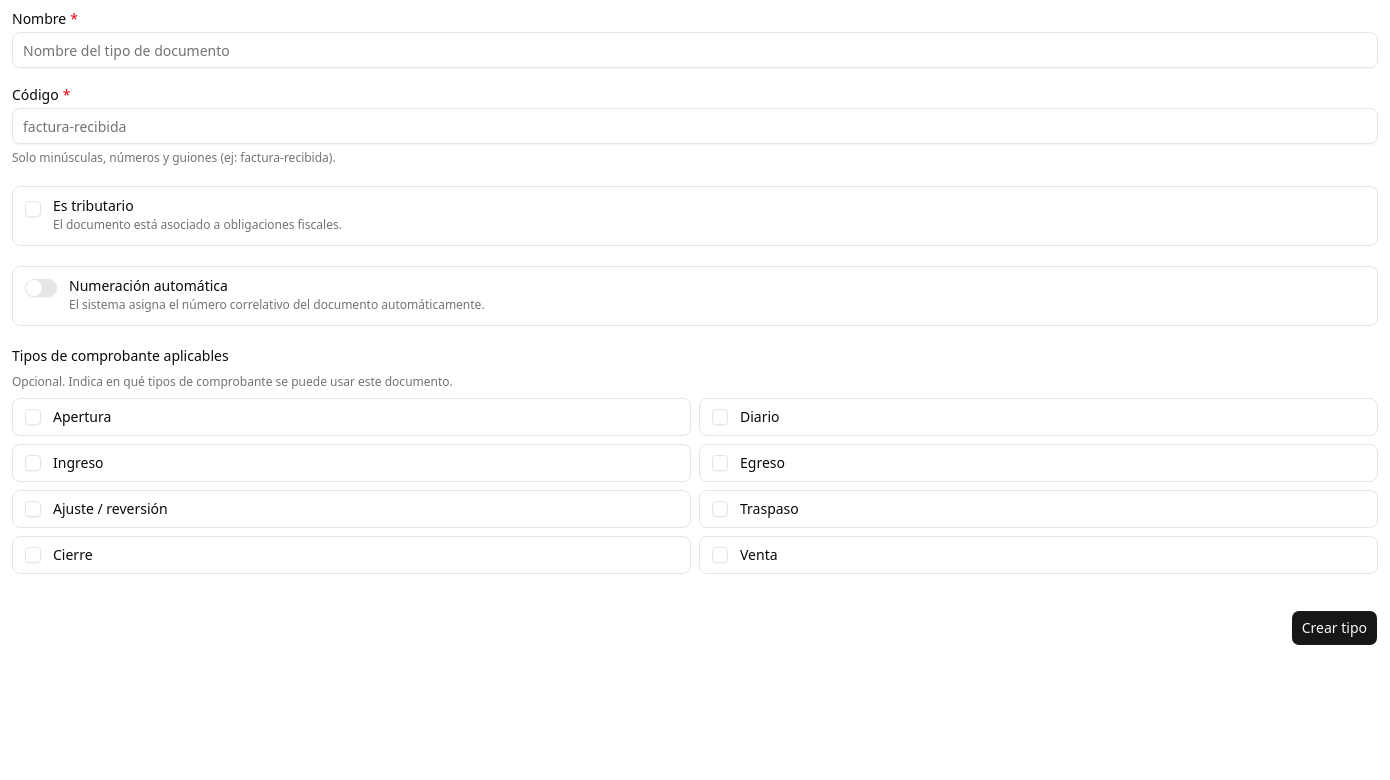
Test case: TipoDocumentoFisicoForm › en modo create activar esTributario con auto encendido desactiva auto
# Primero activar auto
Click the switch named "numeración automática" at [41, 288], box 25,279 -> 57,297
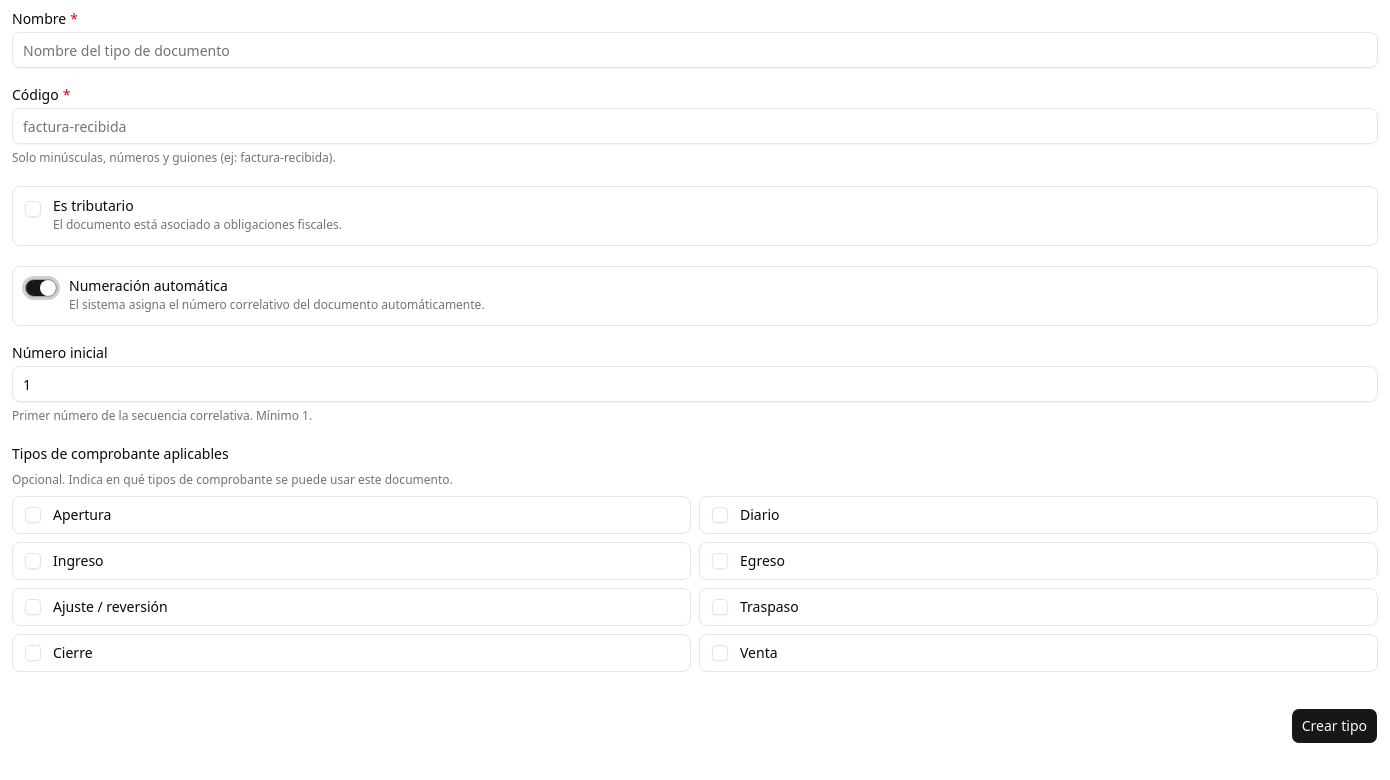
Now the switch named "numeración automática" is checked, box 25,279 -> 57,297
# Luego activar tributario → auto debe apagarse
Click the checkbox named "es tributario" next to "Es tributario" at [33, 209], box 25,201 -> 41,217
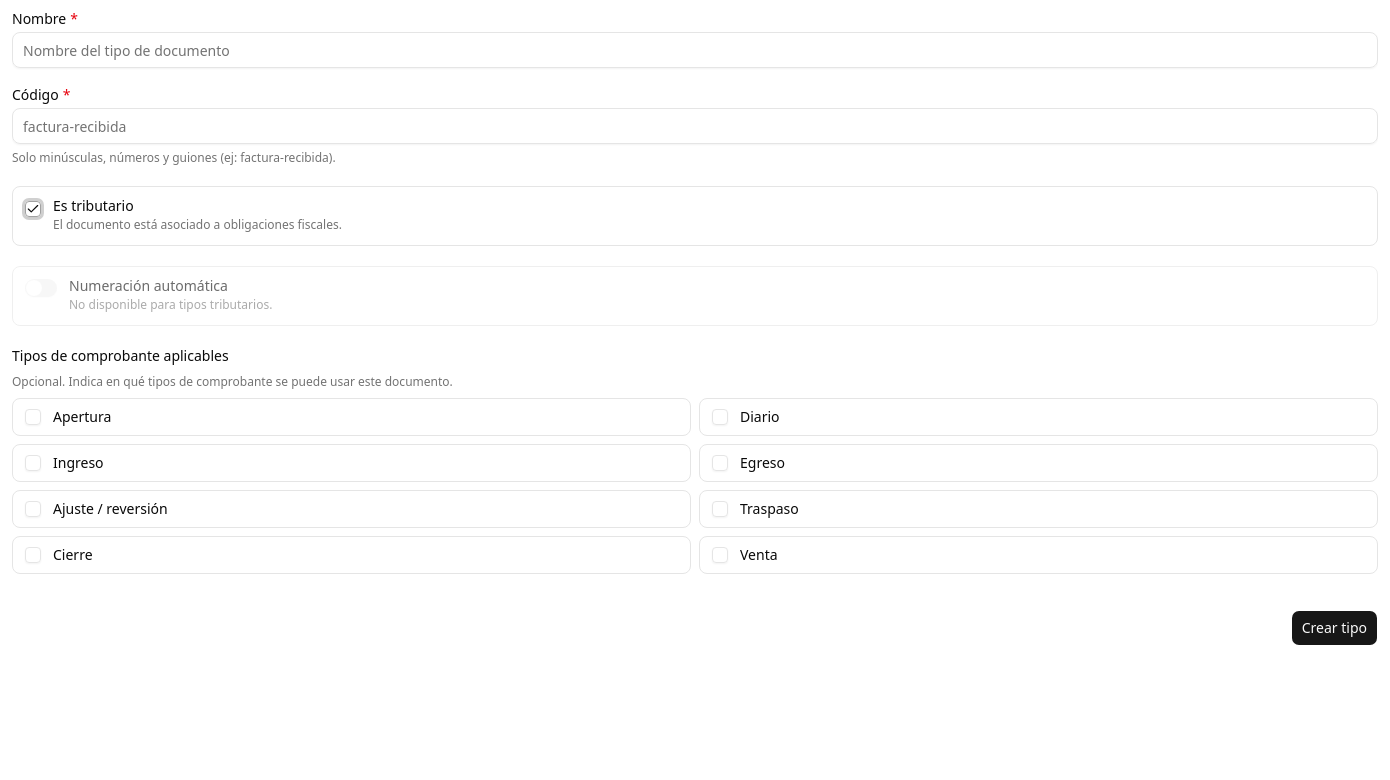
Now the label labelled "Número inicial" is gone
